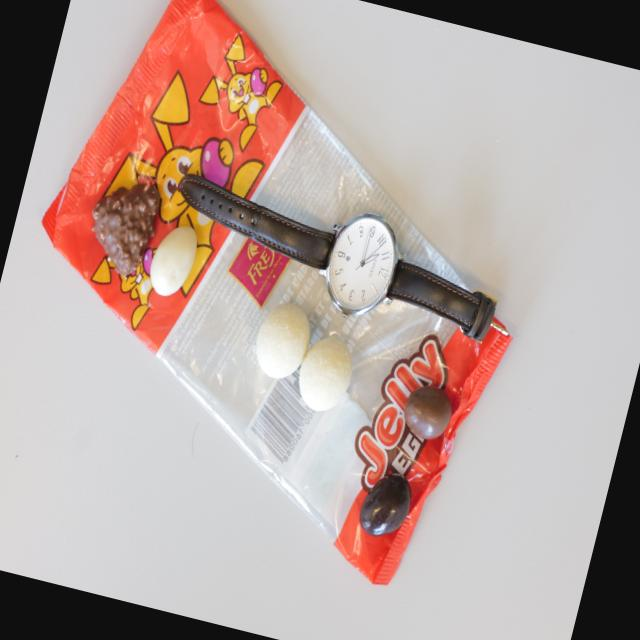Comtesse: (249, 297, 316, 384), (292, 332, 360, 417)
Jelly_Black: (356, 468, 416, 540)
Jelly_Milk: (398, 380, 458, 445)
Jelly_White: (145, 220, 201, 302)
Triangolo: (78, 172, 163, 281)
